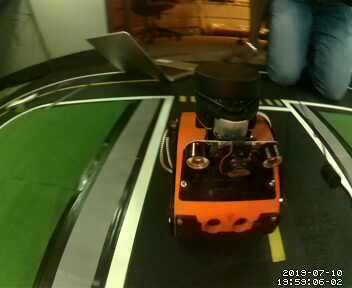pheeno: (164, 61, 288, 249)
